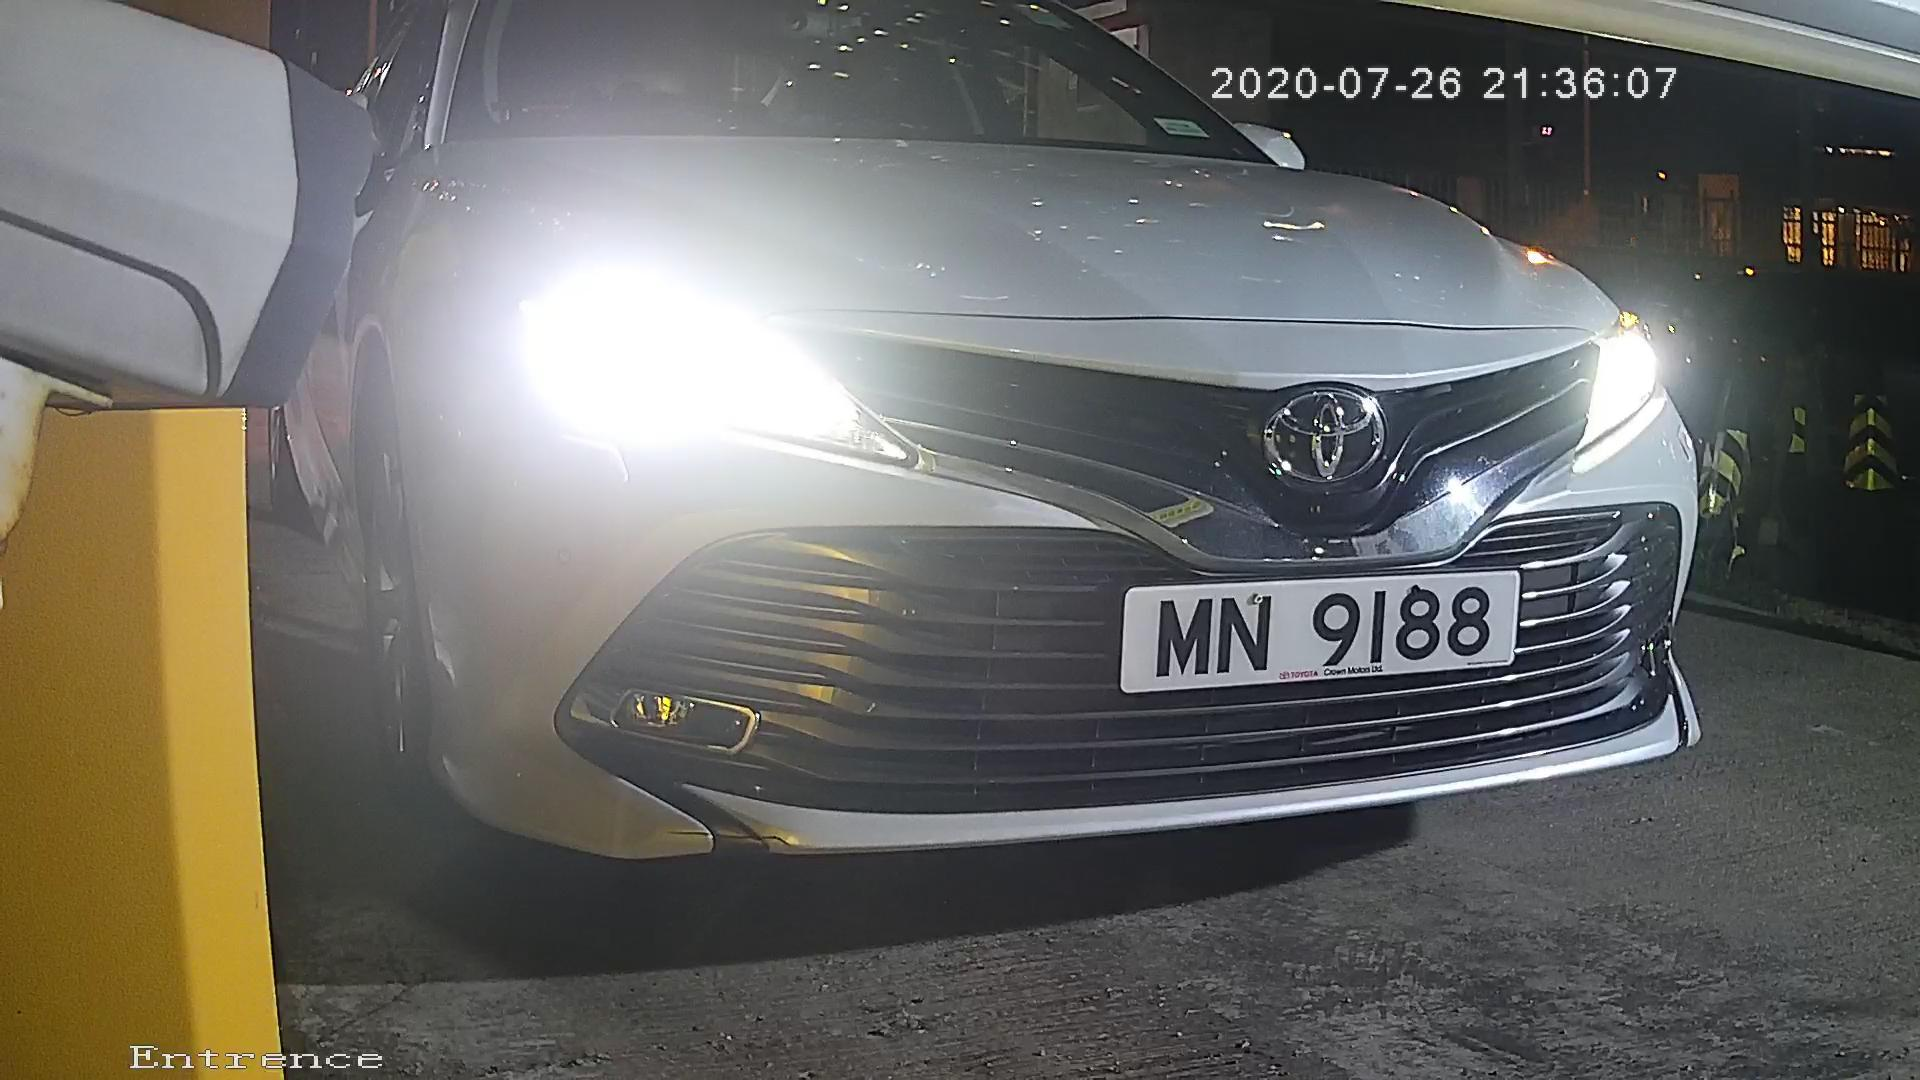Car: (112, 44, 1801, 902)
License Plate: (1123, 550, 1543, 704)
